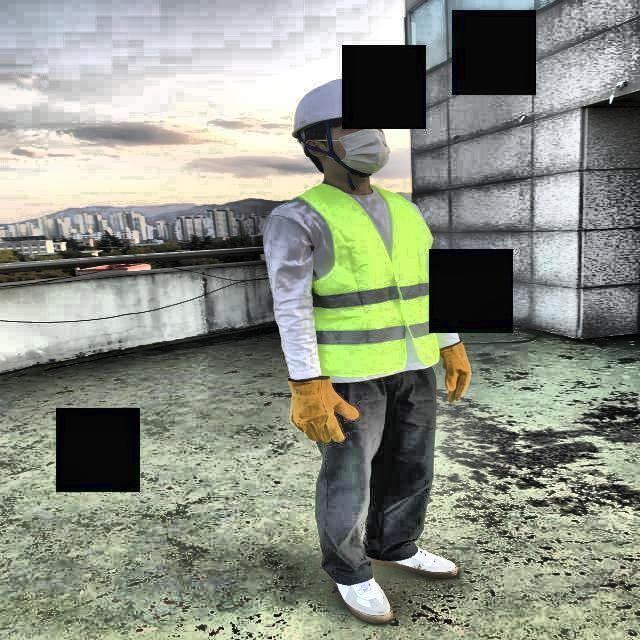safety_helmet: (293, 78, 394, 139)
safety_jacket: (293, 184, 439, 377)
